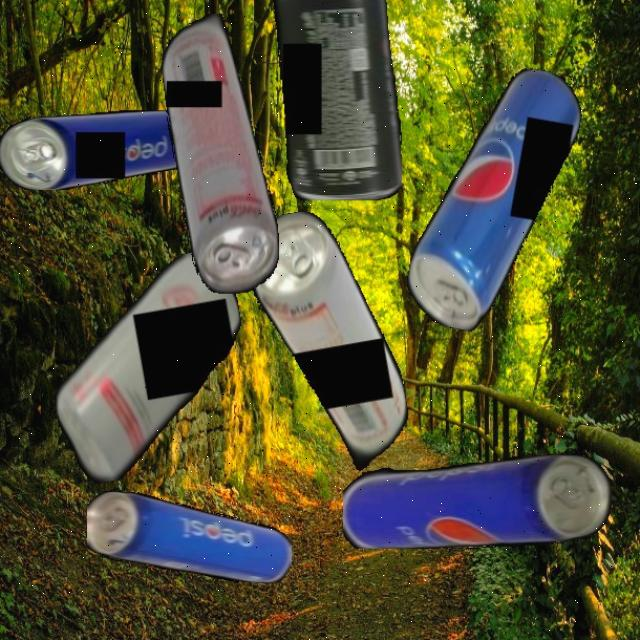debris: (34, 246, 264, 488), (400, 55, 588, 343), (240, 199, 417, 484), (162, 12, 279, 294), (272, 0, 402, 200), (342, 454, 612, 549), (87, 490, 292, 582), (0, 109, 198, 190)
